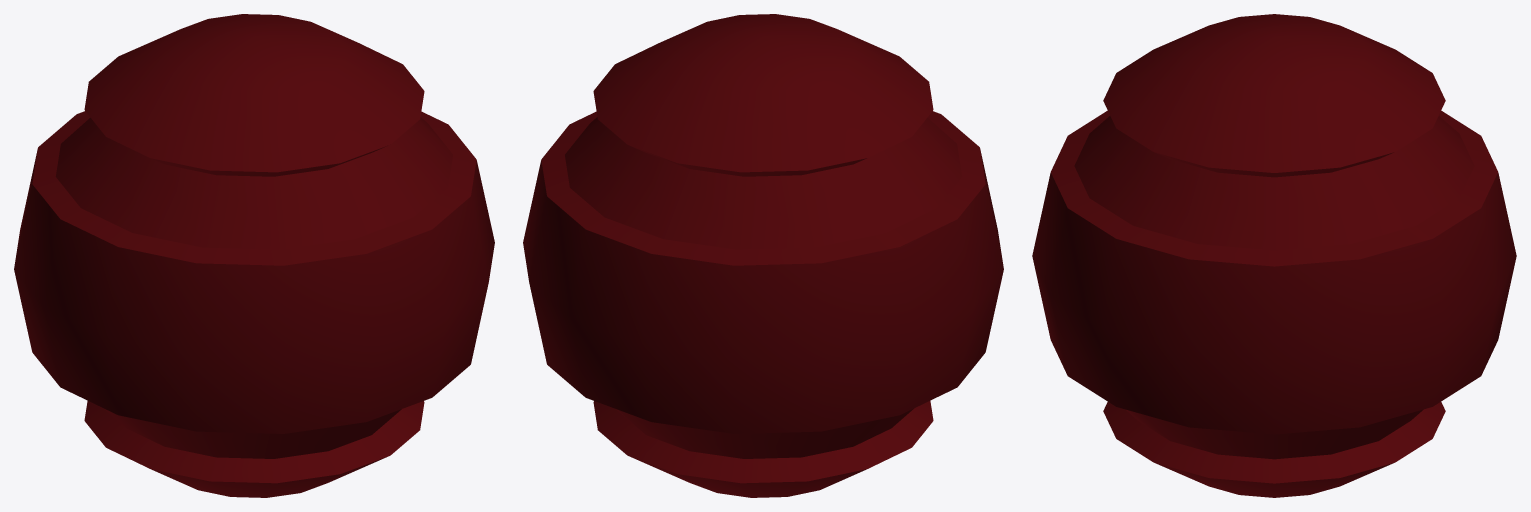
Rendered from 5_Orb.fbx.
3 views of the same model, side by side, from view 1: azimuth 30°, elevation 25°; view 2: azimuth 150°, elevation 25°; view 3: azimuth 270°, elevation 25° (orthographic).
Parts seen in each view (by area): view 1: Orb; view 2: Orb; view 3: Orb.
Boxes of the visible parts, <box> form: Orb: <box>14,14,494,497</box>; Orb: <box>523,14,1003,497</box>; Orb: <box>1032,14,1516,497</box>.
Size of the model in its own units: 100 by 100 by 100.
